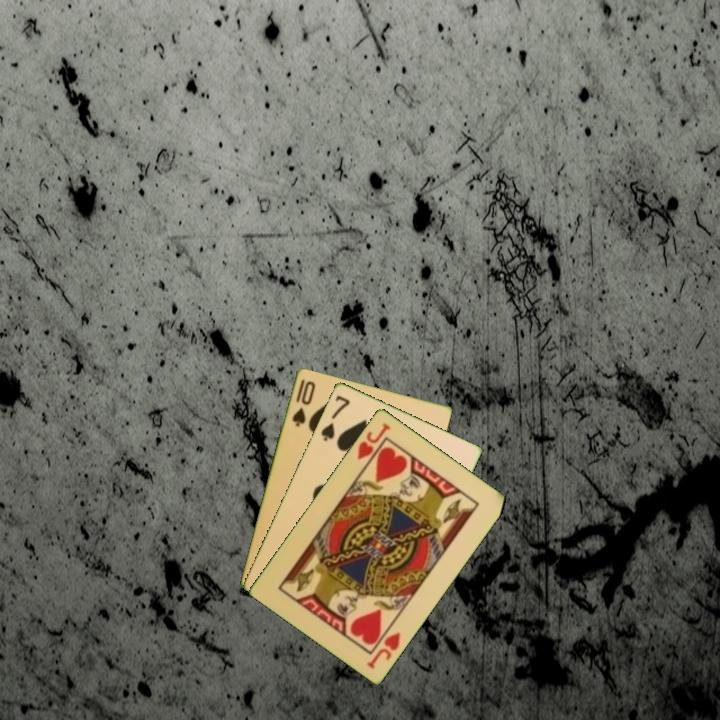10s: (288, 375, 318, 429)
7s: (317, 391, 353, 444)
Jh: (363, 628, 403, 671), (354, 419, 393, 463)
